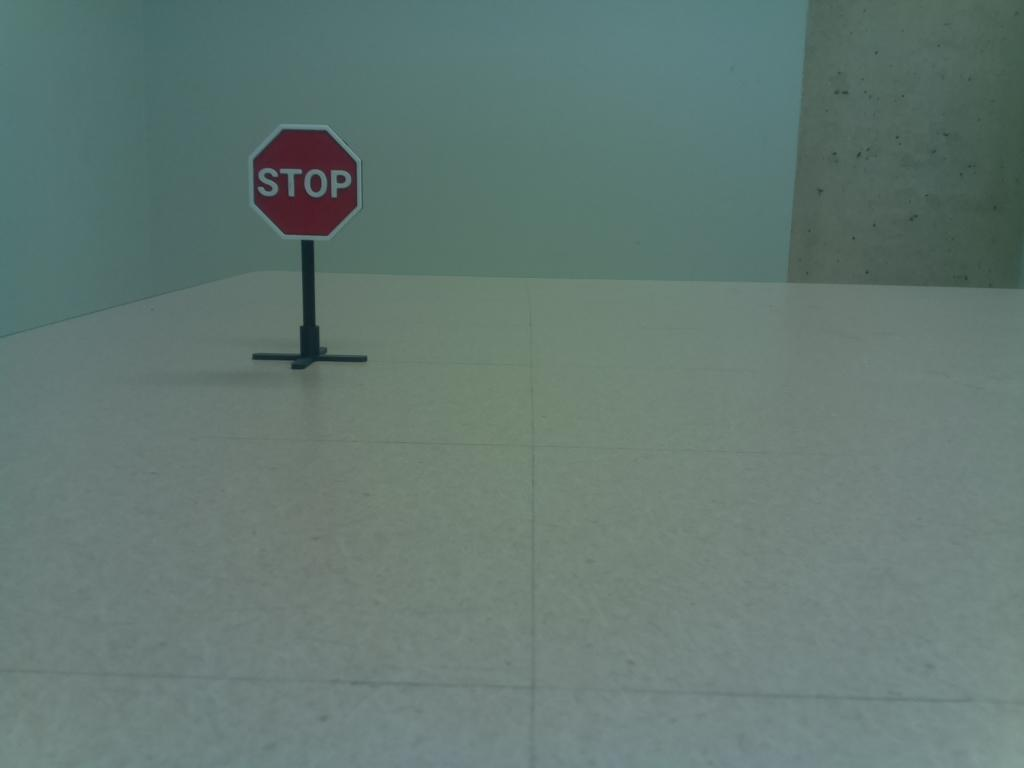sign_stop: (238, 118, 372, 246)
